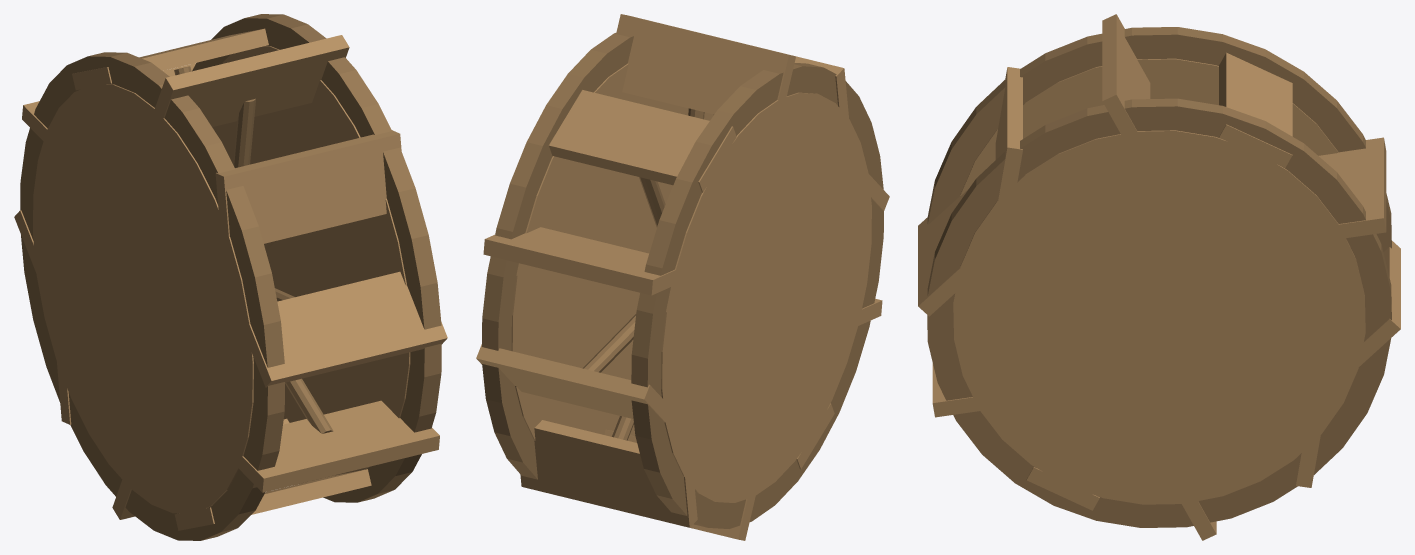
The model's file is hydro_rotor3.obj.
3 views of the same model, side by side, from view 1: azimuth 30°, elevation 25°; view 2: azimuth 150°, elevation 25°; view 3: azimuth 270°, elevation 25° (orthographic). The views are drawn at different scales.
Size of the model in its own units: 0.36 by 0.9285 by 0.9104.
1 material, 1 textured.
